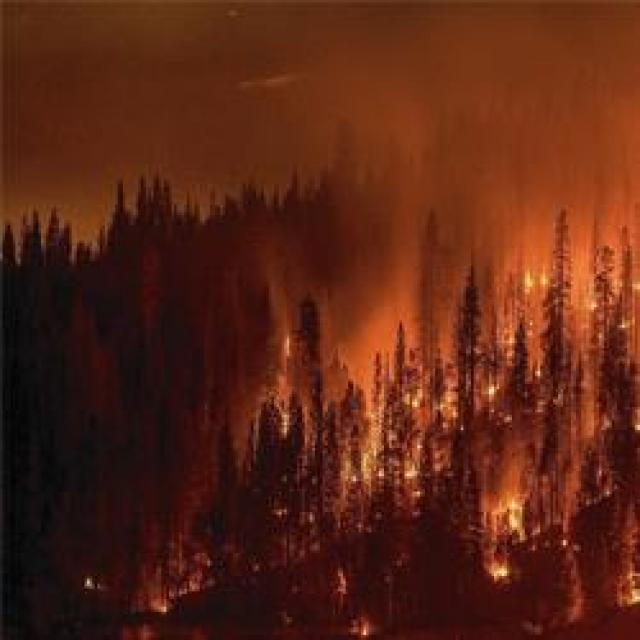fire: (220, 237, 638, 605)
